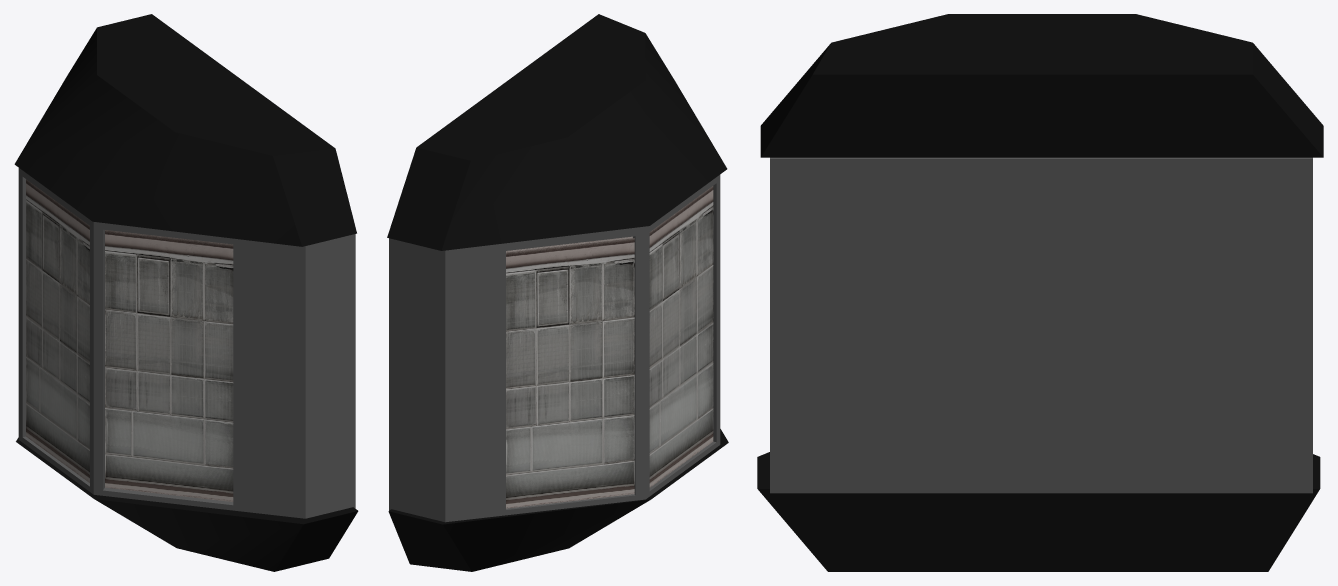
Rendered from window1.FBX.
3 views of the same model, side by side, from view 1: azimuth 30°, elevation 25°; view 2: azimuth 150°, elevation 25°; view 3: azimuth 270°, elevation 25° (orthographic). The views are drawn at different scales.
Visible parts, largest first — view 1: Box005, Box001, Box004, Box002, Box006; view 2: Box005, Box001, Box003, Box002, Box006; view 3: Box001, Box005, Box006.
Part boxes in pixels (box(x1,y1,x2,y2)): Box005: box(14, 14, 356, 246); Box001: box(18, 168, 355, 518); Box004: box(105, 230, 233, 501); Box002: box(26, 179, 89, 482); Box006: box(16, 437, 358, 571); Box005: box(387, 14, 727, 250); Box001: box(389, 175, 720, 522); Box003: box(506, 236, 634, 508); Box002: box(649, 186, 713, 487); Box006: box(388, 429, 728, 571); Box001: box(770, 157, 1312, 493); Box005: box(760, 14, 1323, 157); Box006: box(757, 452, 1320, 571).
Size of the model in its own units: 20.35 by 42.76 by 44.11.
Materials: 3 (1 with a texture image).
